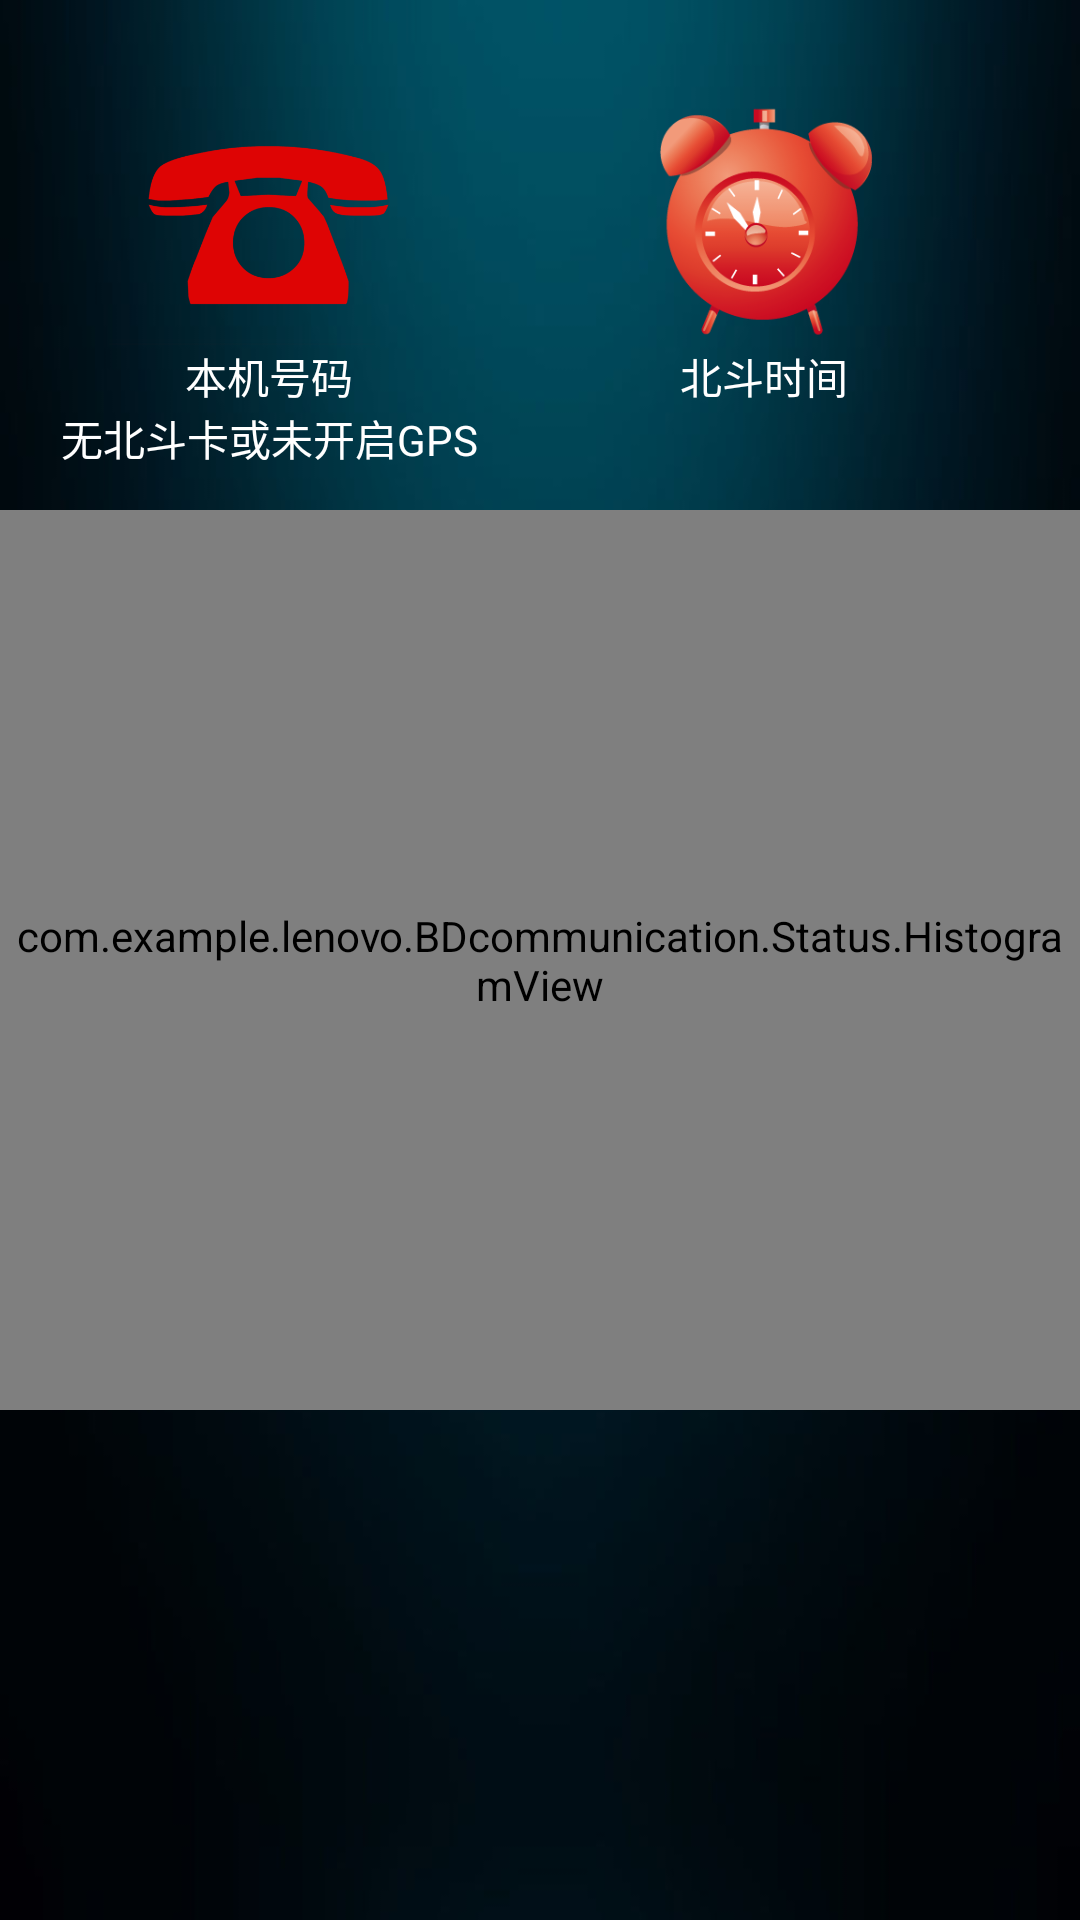

Screen size 1080 × 1920. Icon name, then its center in pixels as (x,y):
alarm clock: (764,225)
